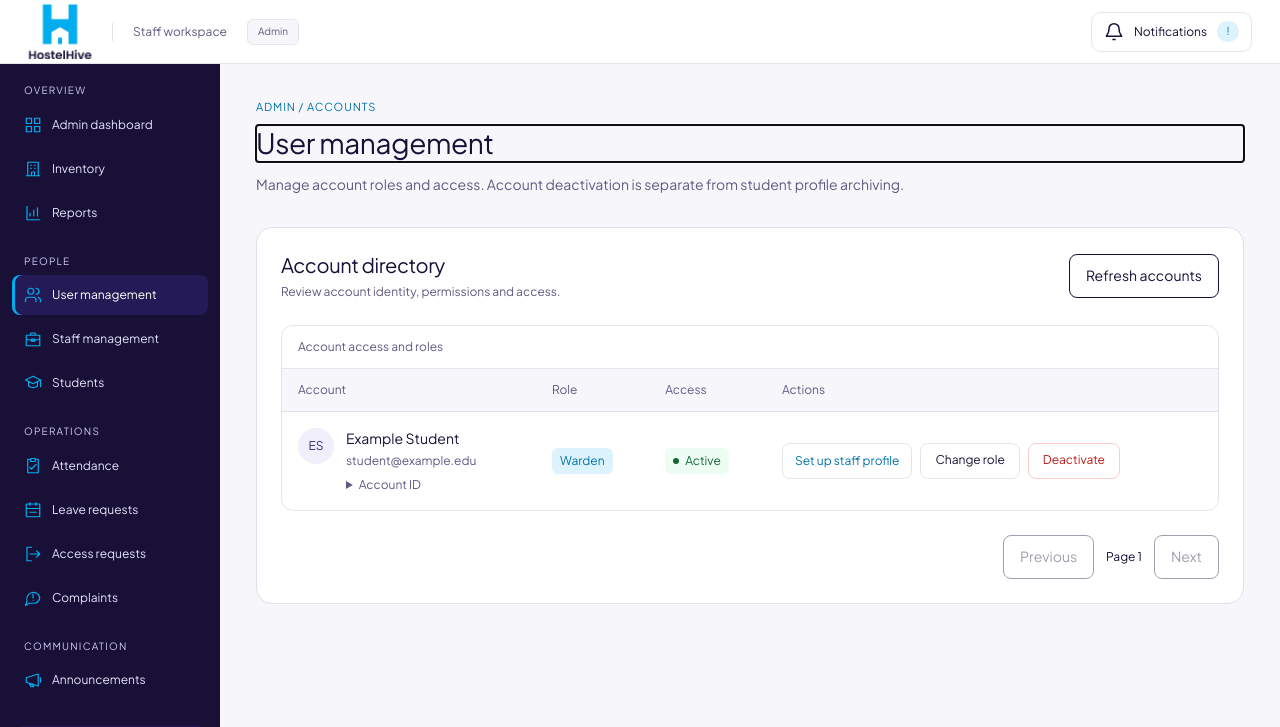
Test: opens profile setup for an existing staff account without credentials in the URL
Click the link "Set up staff profile": (847, 461) [782,443,912,479]
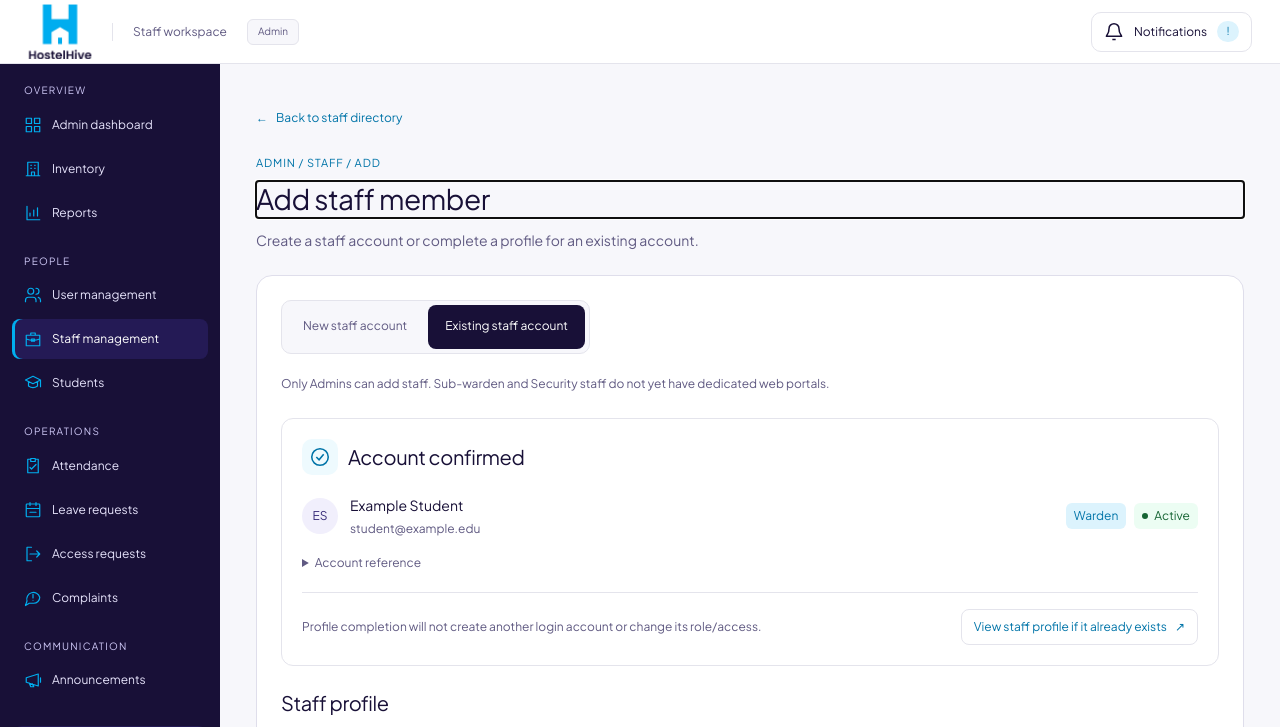
Expected: the heading "Account confirmed" is shown, [348,444,524,470]
